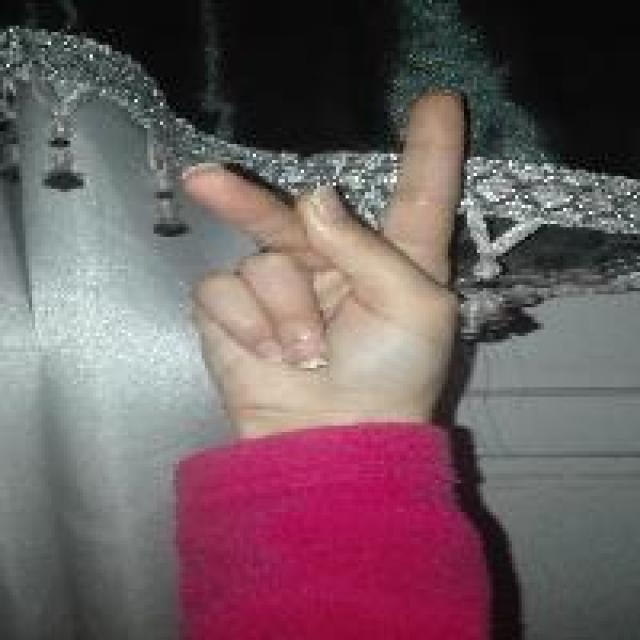K: (176, 79, 474, 418)
